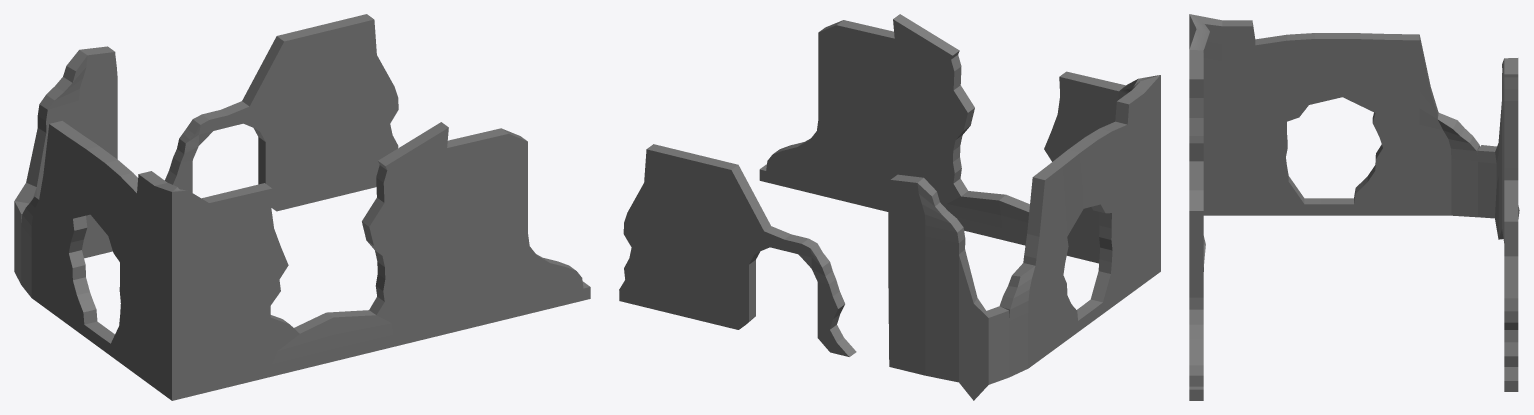
File: Ruins Cap.fbx
3 renders of one model, left to right at view 1: azimuth 30°, elevation 25°; view 2: azimuth 150°, elevation 25°; view 3: azimuth 270°, elevation 25°, orthographic. The views are drawn at different scales.
Parts seen in each view (by area): view 1: Ruins Cap; view 2: Ruins Cap; view 3: Ruins Cap.
Boxes of the visible parts, x1,y1,x2,y2 form: Ruins Cap: (14,14,590,400); Ruins Cap: (619,14,1160,400); Ruins Cap: (1189,14,1519,400).
Size of the model in its own units: 95.81 by 49.55 by 69.9.
